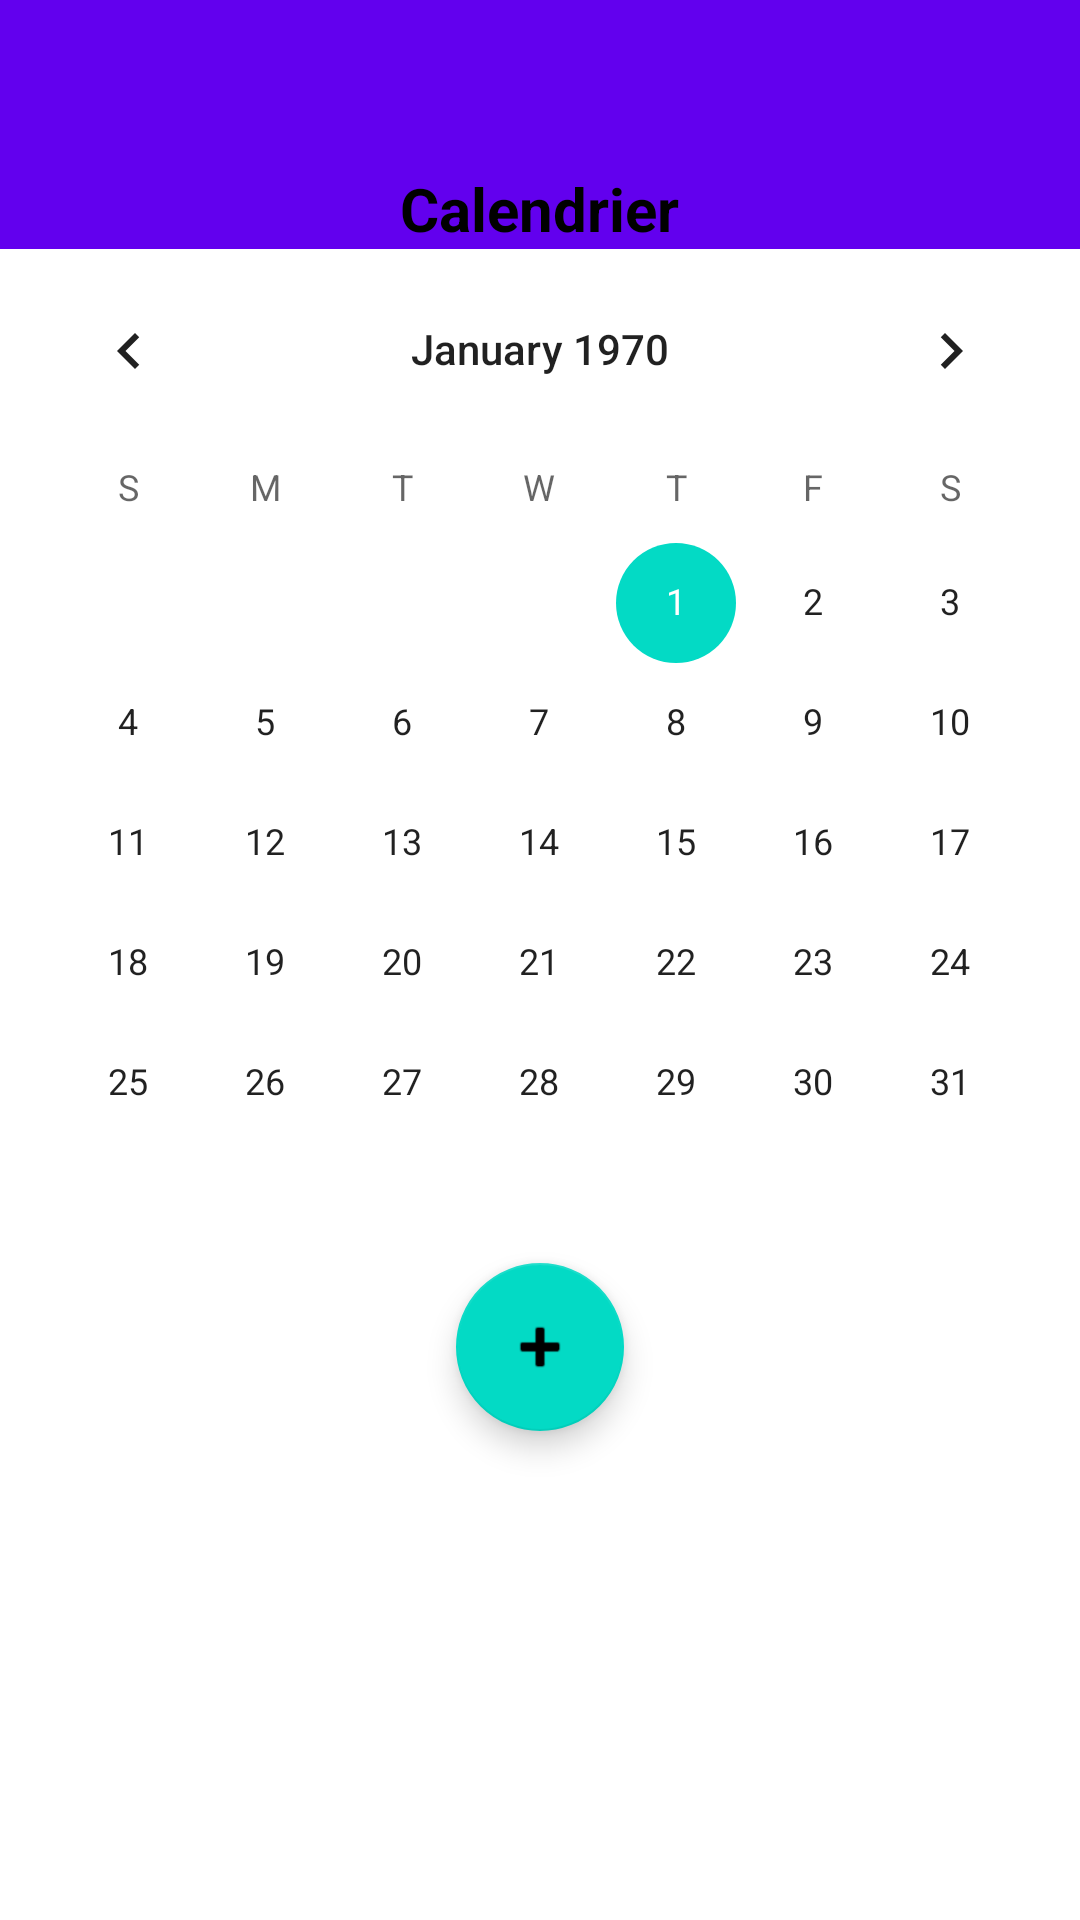

Screen size 1080 × 1920. Icon name, then its center in pixels as [x,y]:
add: [540,1347]
